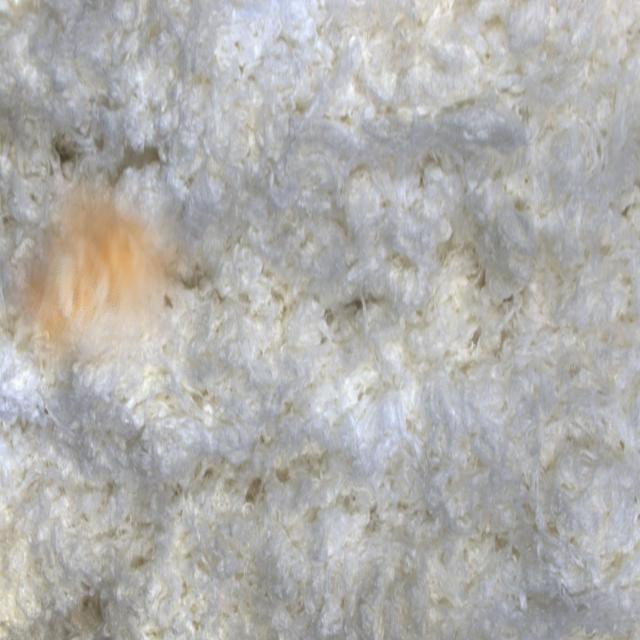dust: (6, 154, 203, 372)
